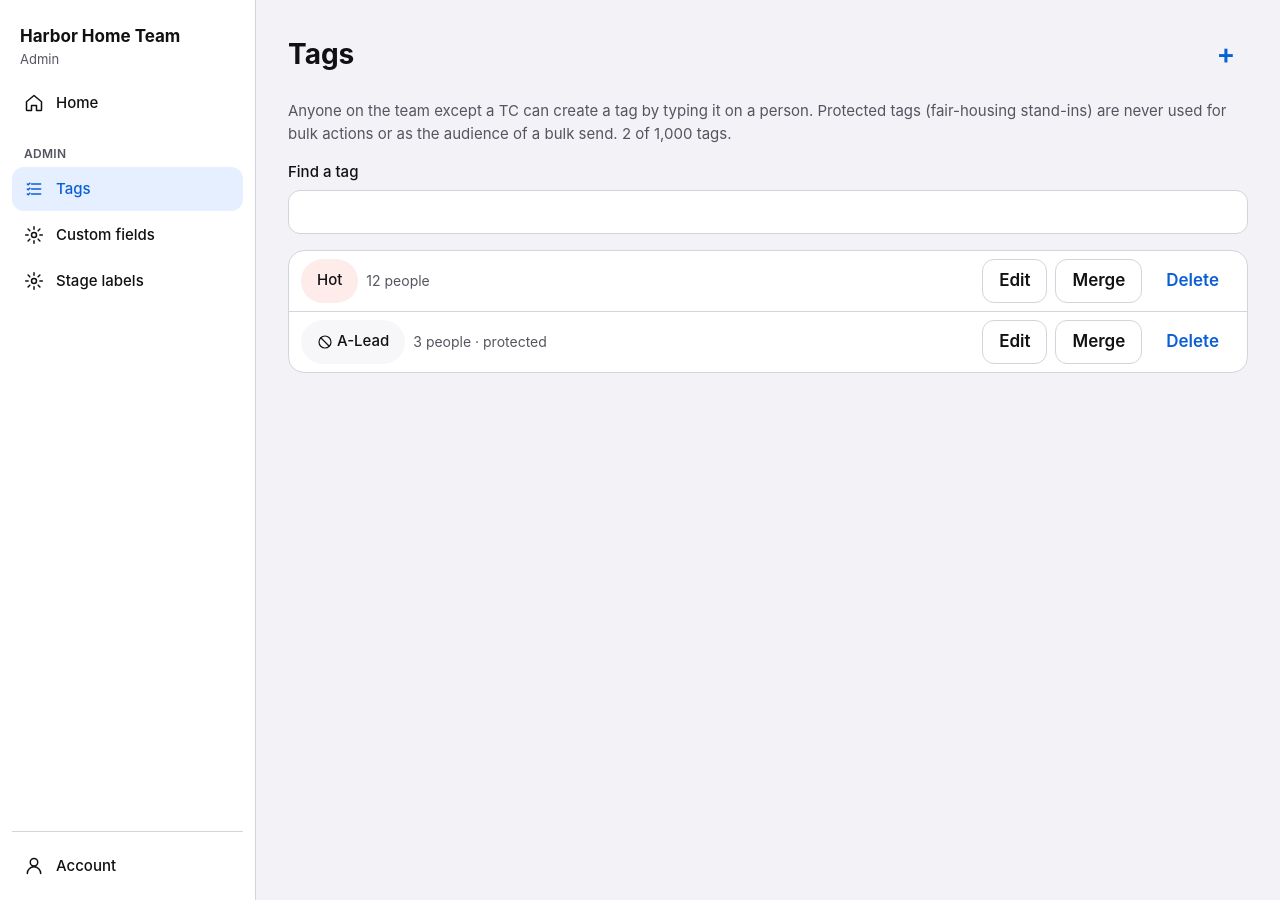
Test: Admin → Tags (R-PAR-9) › delete says how many people lose the tag
Click the button with aria-label "Delete Hot".
click(1193, 280)  # box [1150,258,1235,302]
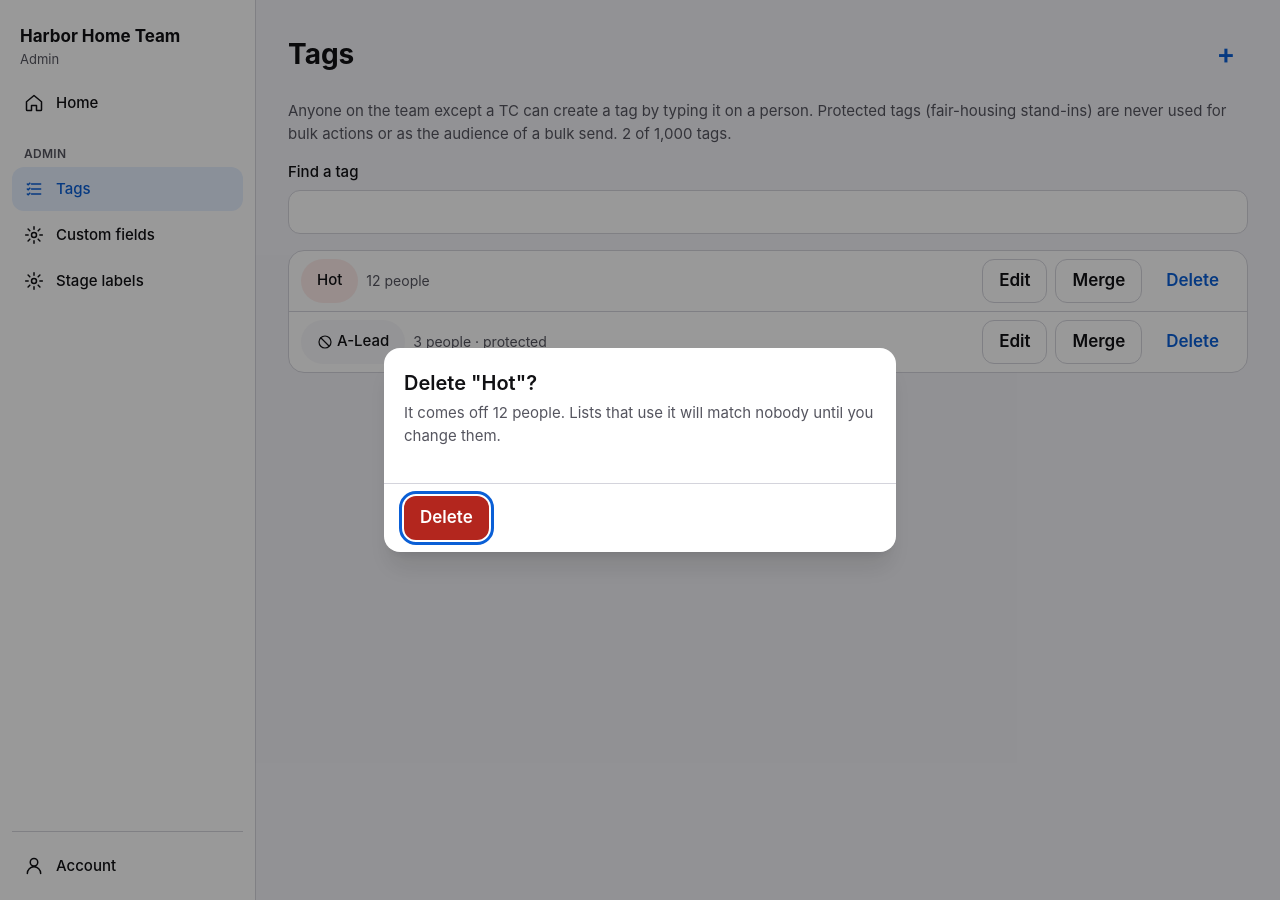
Check: the dialog "Delete \"Hot\"?" shows "It comes off 12 people.", box [404,403,873,444]
